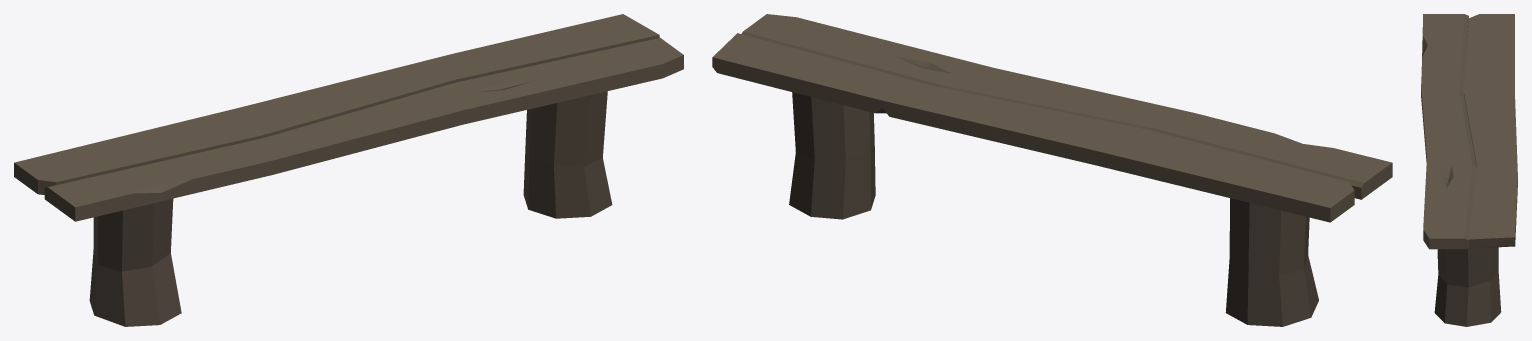
Rendered from SM_Props_Farm_Bench.fbx.
3 views of the same model, side by side, from view 1: azimuth 30°, elevation 25°; view 2: azimuth 150°, elevation 25°; view 3: azimuth 270°, elevation 25° (orthographic). The views are drawn at different scales.
Visible parts, largest first — view 1: SM_Props_Farm_Bench; view 2: SM_Props_Farm_Bench; view 3: SM_Props_Farm_Bench.
Part boxes in pixels (x1,y1,x2,y2): SM_Props_Farm_Bench: (14,14,683,326); SM_Props_Farm_Bench: (712,14,1392,326); SM_Props_Farm_Bench: (1421,14,1517,326).
Bounding box in the file's own units: 337 × 74.76 × 61.23.
